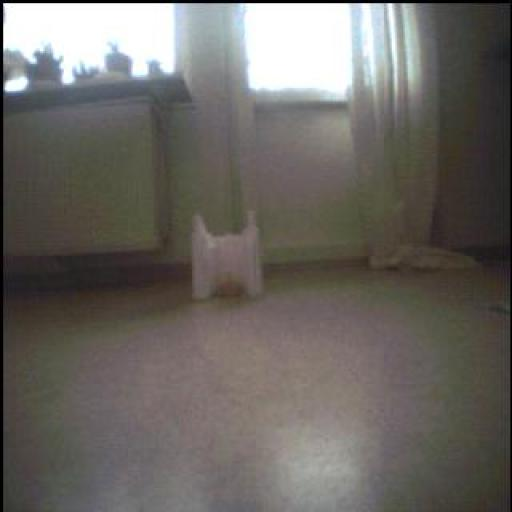Basket: (213, 269, 247, 304)
